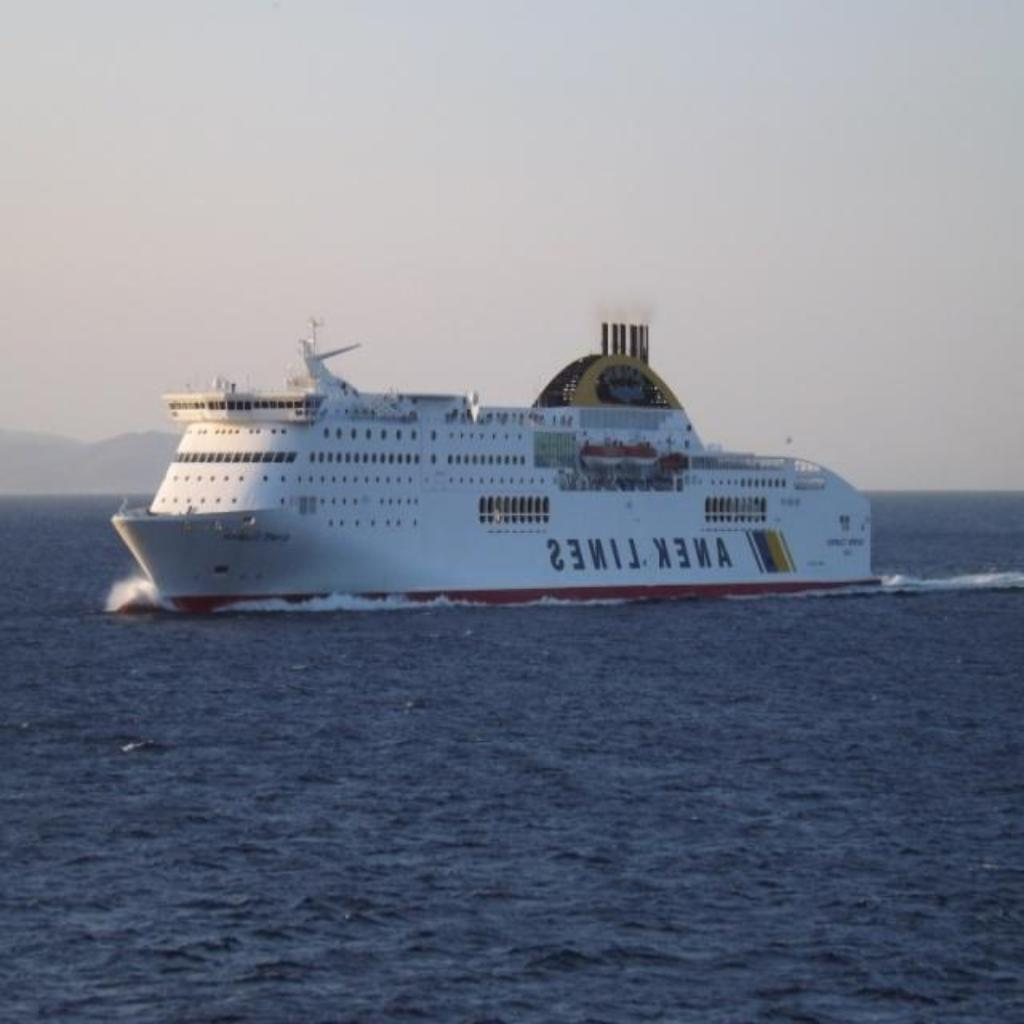PassengerShip: (105, 309, 887, 605)
